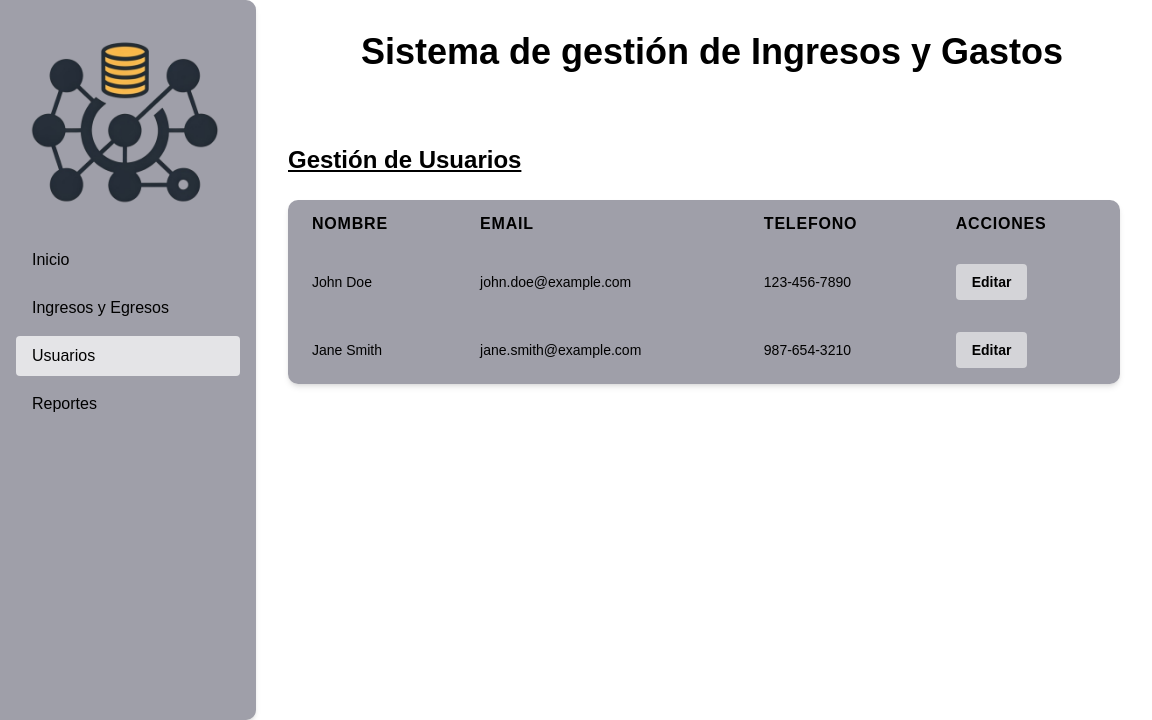
Users Page › Debe abrir el modal de edición al hacer clic en "Editar"
Click the button "Editar" in the row of "John Doe": (992,282) [956, 264, 1027, 300]
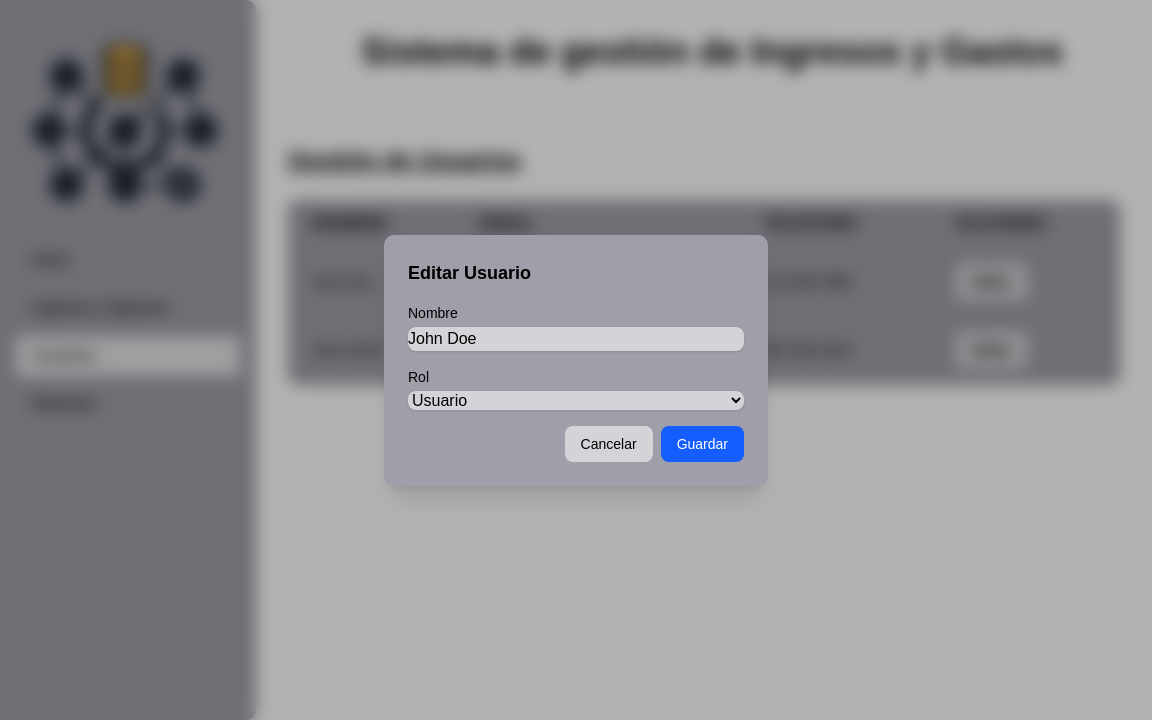
Check: the heading "Editar Usuario" is shown, box [408, 262, 531, 282]
